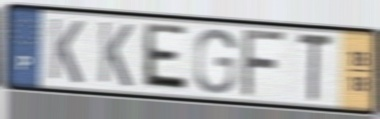E: (139, 20, 190, 95)
F: (239, 28, 290, 100)
G: (192, 27, 239, 96)
K: (47, 15, 86, 86), (96, 19, 135, 90)
T: (295, 31, 335, 104)
